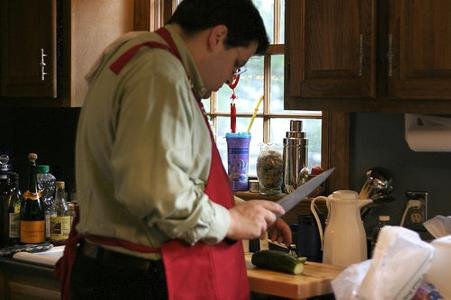person: (62, 1, 293, 300)
